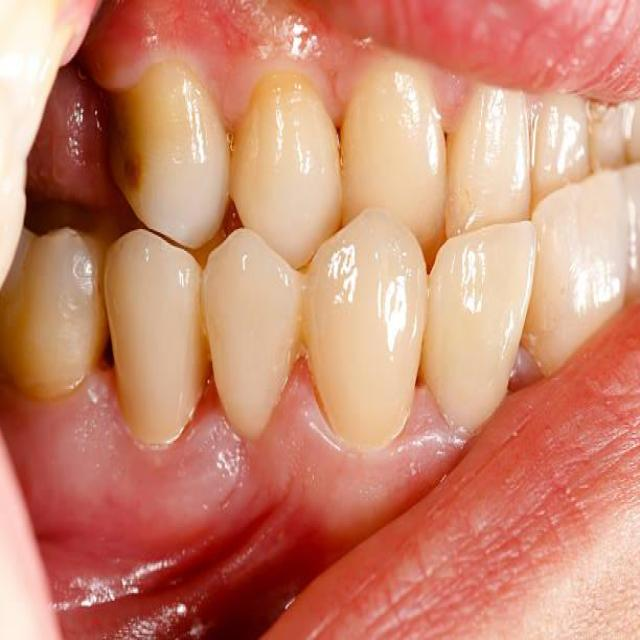caries: (107, 121, 168, 216)
